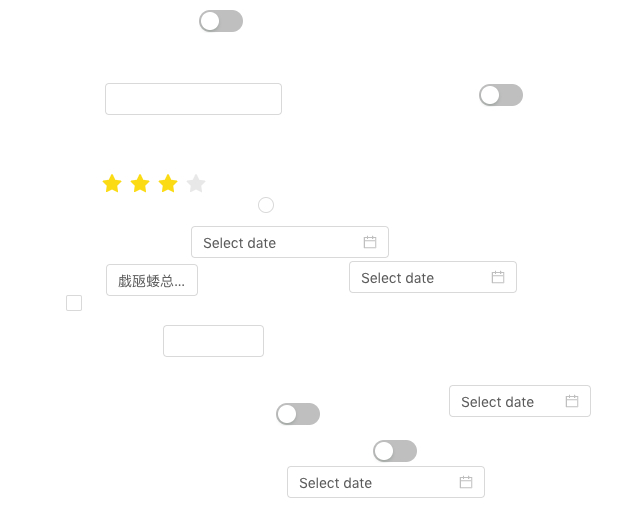Checkbox: (66, 292, 82, 313)
DatePicker: (191, 226, 389, 258), (287, 466, 485, 498), (349, 261, 517, 293), (449, 385, 591, 417)
Input: (105, 83, 282, 115), (163, 325, 264, 357), (106, 264, 198, 296)
Radio: (258, 194, 274, 214)
Rate: (102, 167, 222, 199)
Switch: (373, 439, 417, 463), (199, 9, 243, 33), (479, 83, 523, 107), (276, 402, 320, 426)
